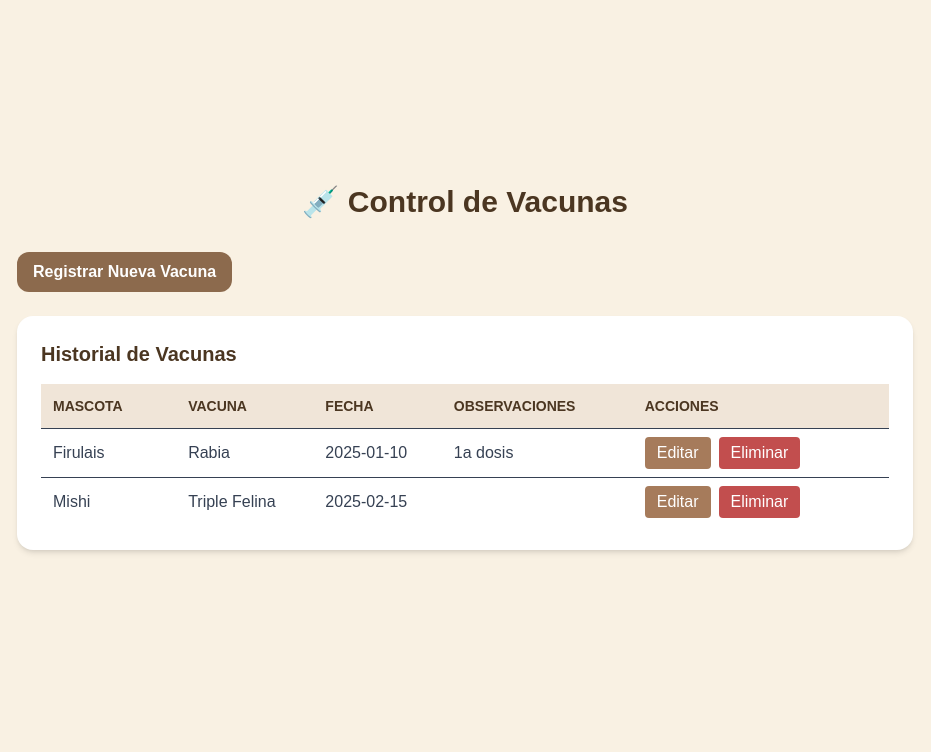
Scenario: VacunasPage › togglea el formulario, registra una vacuna y refresca la lista
Click the button "Registrar Nueva Vacuna" at coordinates (125, 272), box left=17, top=252, right=232, bottom=292
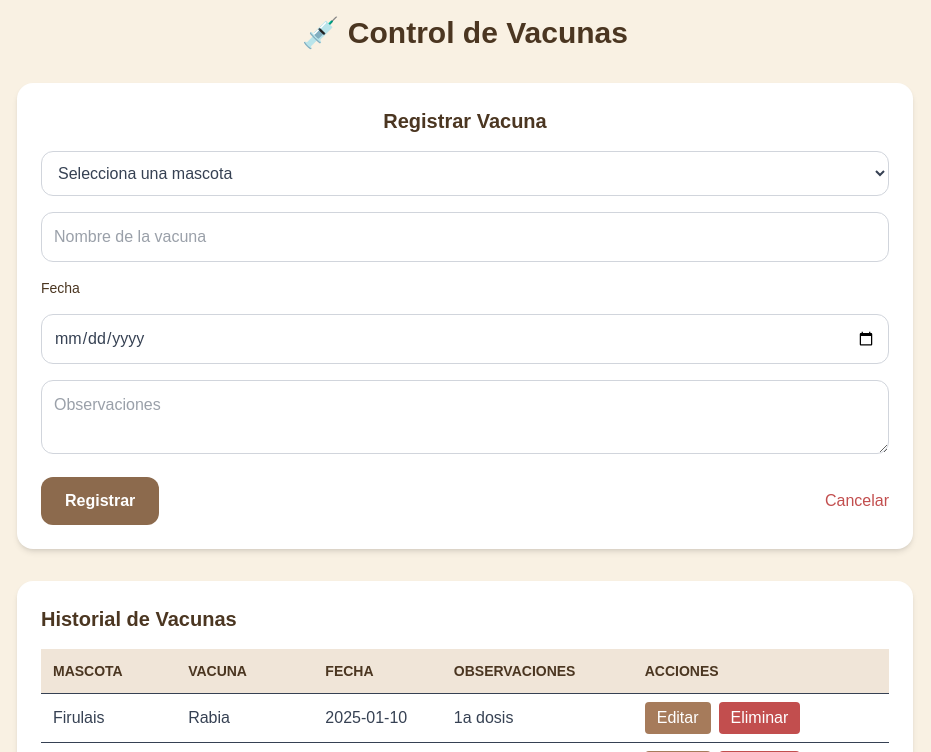
Check: the button "Registrar" is shown, box left=41, top=477, right=159, bottom=525
Llenar campos
Select "Firulais" in the dropdown at coordinates (465, 174), box left=41, top=151, right=889, bottom=196
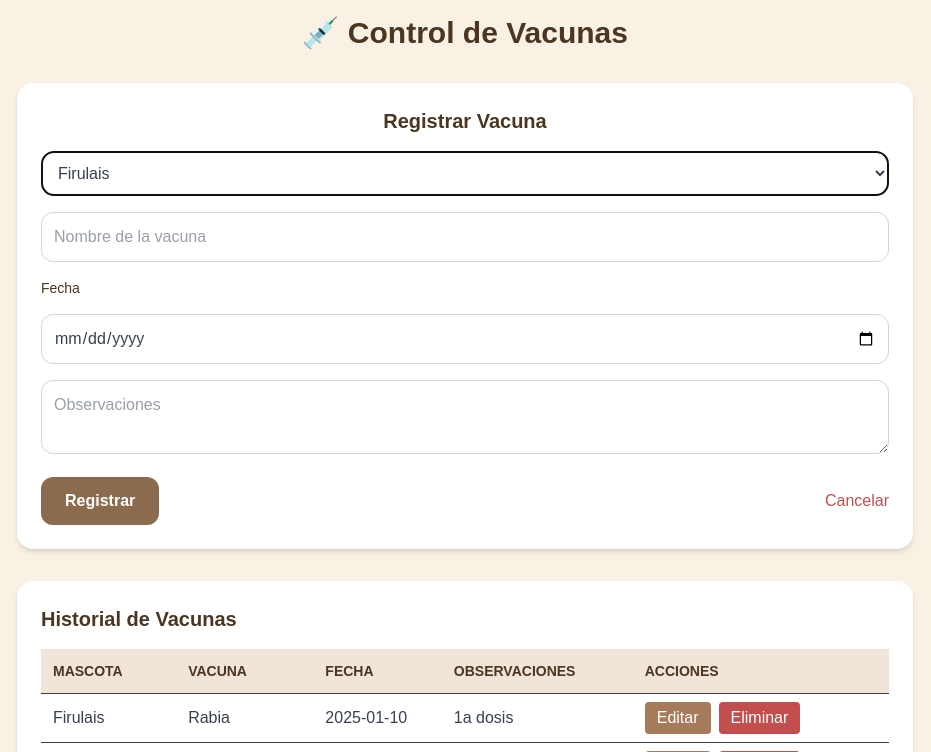
Type "Parvo" into the field with placeholder "Nombre de la vacuna" at coordinates (465, 237), box left=41, top=212, right=889, bottom=262
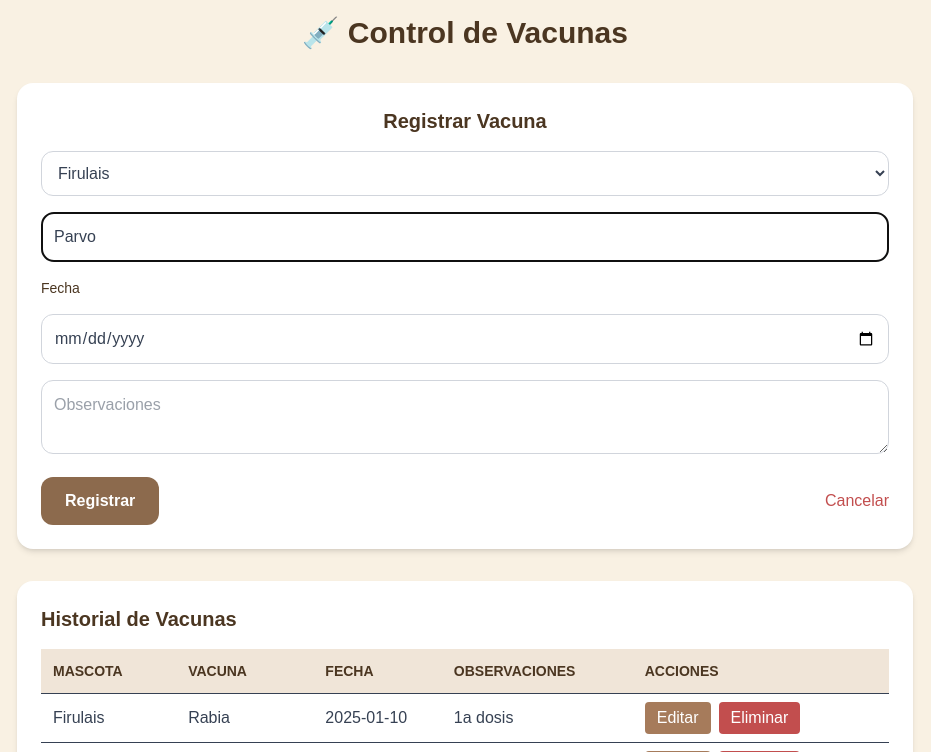
Type "2025-08-14" into the date field labelled "Fecha" at coordinates (465, 339), box left=41, top=314, right=889, bottom=364
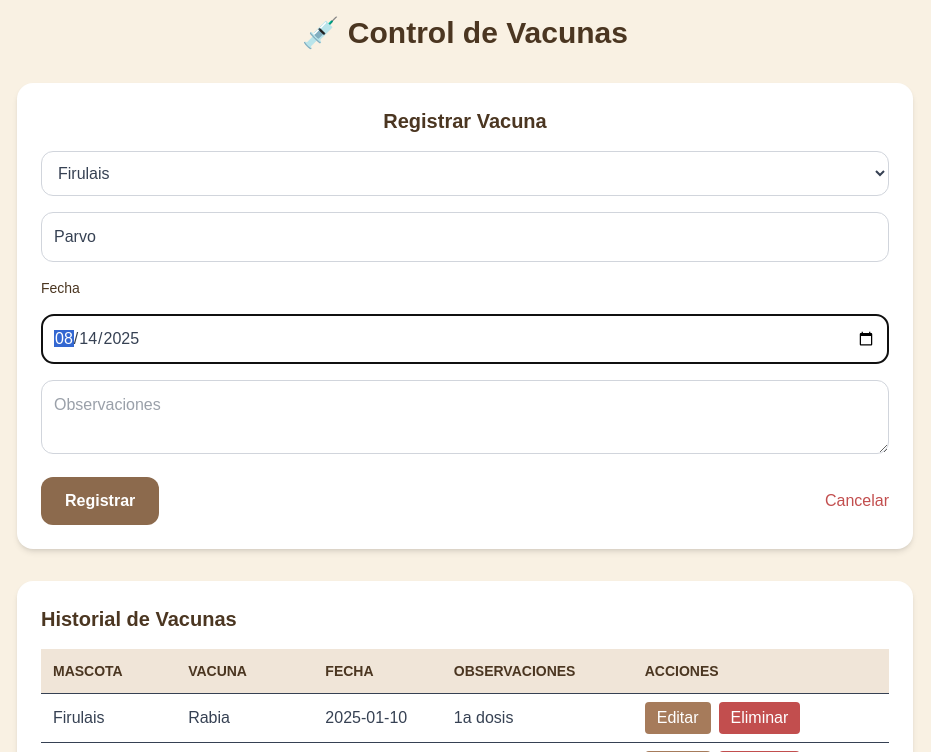
Type "Refuerzo" into the text box with placeholder "Observaciones" at coordinates (465, 417), box left=41, top=380, right=889, bottom=454
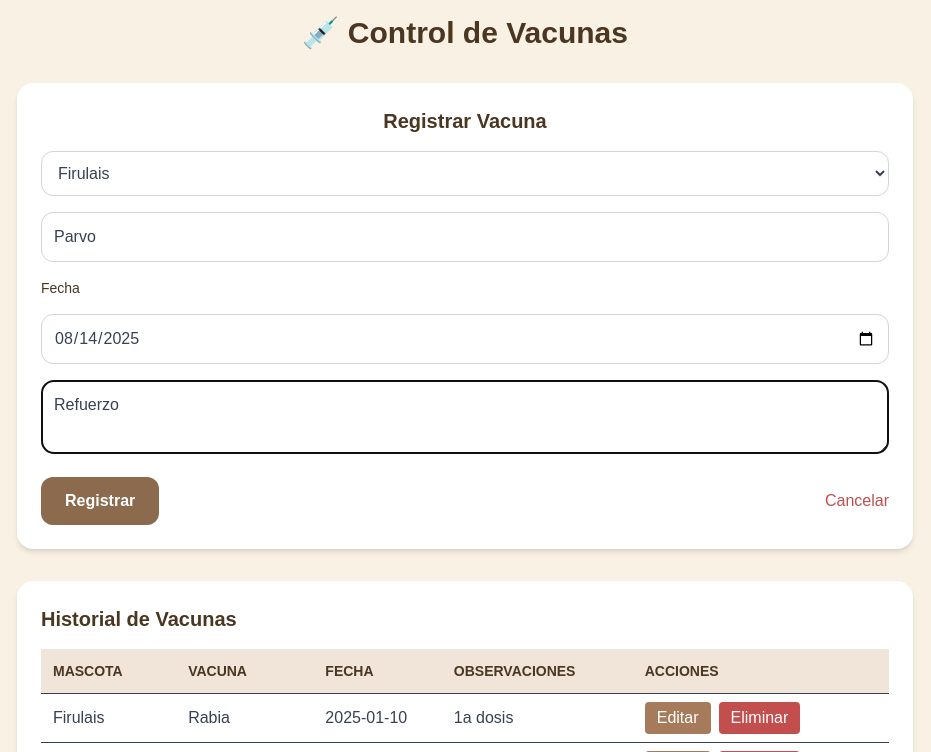
Click the button "Registrar" at coordinates (100, 501), box left=41, top=477, right=159, bottom=525
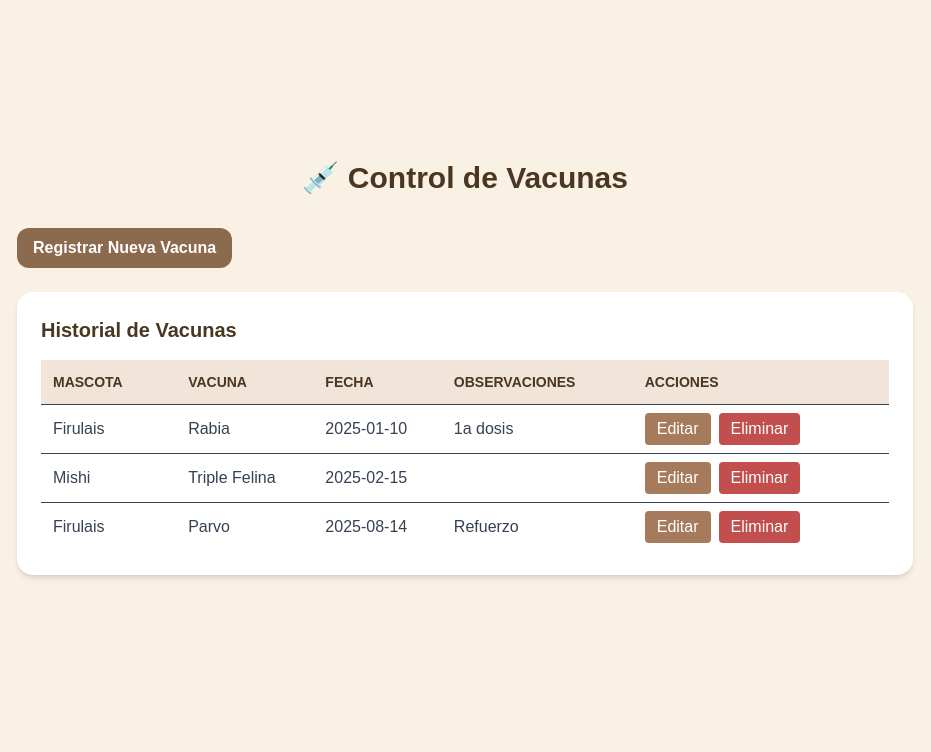
Check: the table is shown, box left=41, top=360, right=889, bottom=550
Check: the text "Parvo" is shown, box left=188, top=502, right=325, bottom=550
